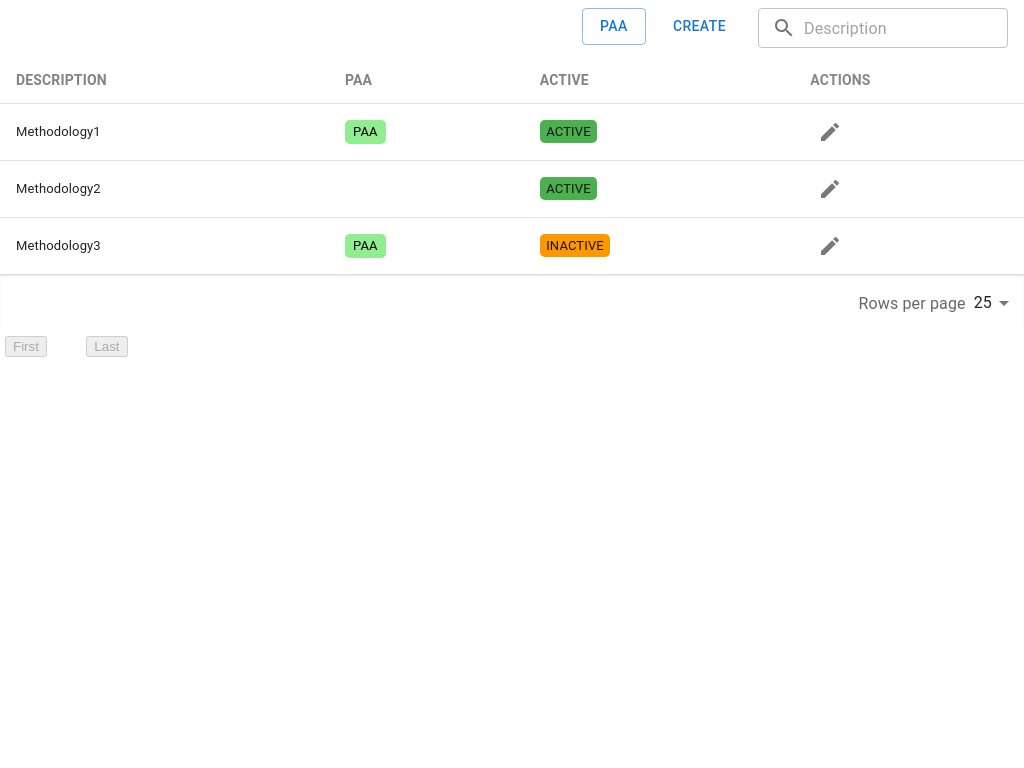
Scenario: Methodologies › should provide the ability to edit a methodology
The width and height of the screenshot is (1024, 768).
Expected: the text "Description" is shown, 16,68 -> 107,92
Expected: the text "Methodology1" is shown, 0,104 -> 329,161
Click the button with test id "Edit" in the row of "Methodology1" at (830, 132), box 810,112 -> 850,152
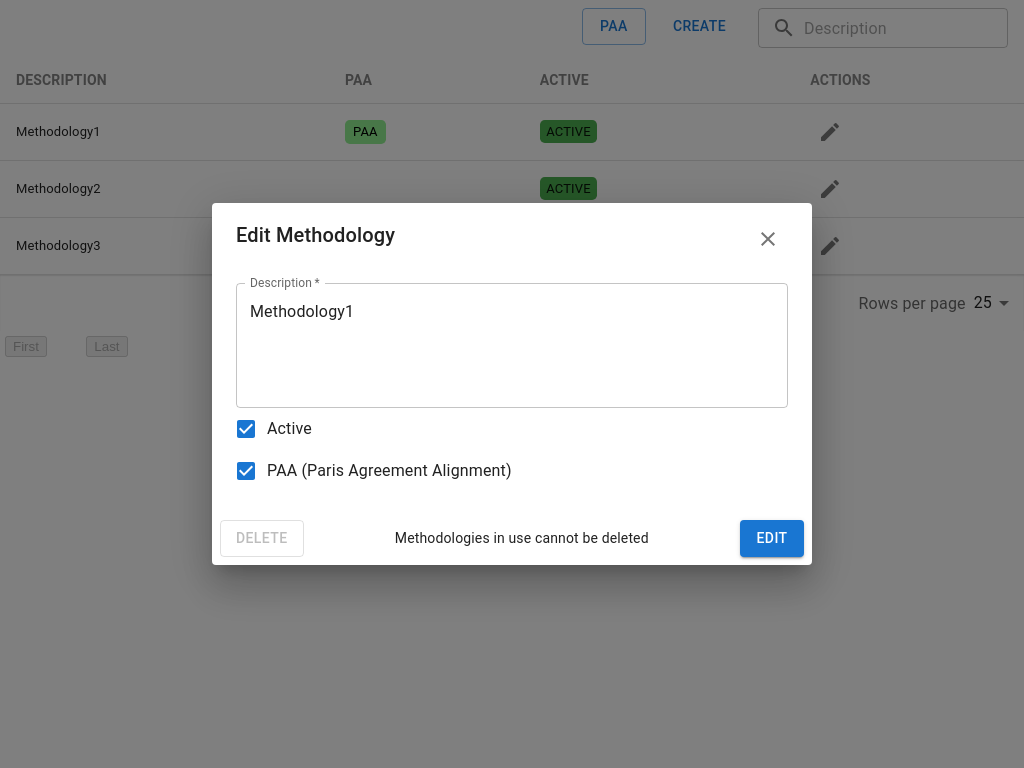
Expected: the heading "Edit Methodology" is shown, 236,219 -> 788,259
